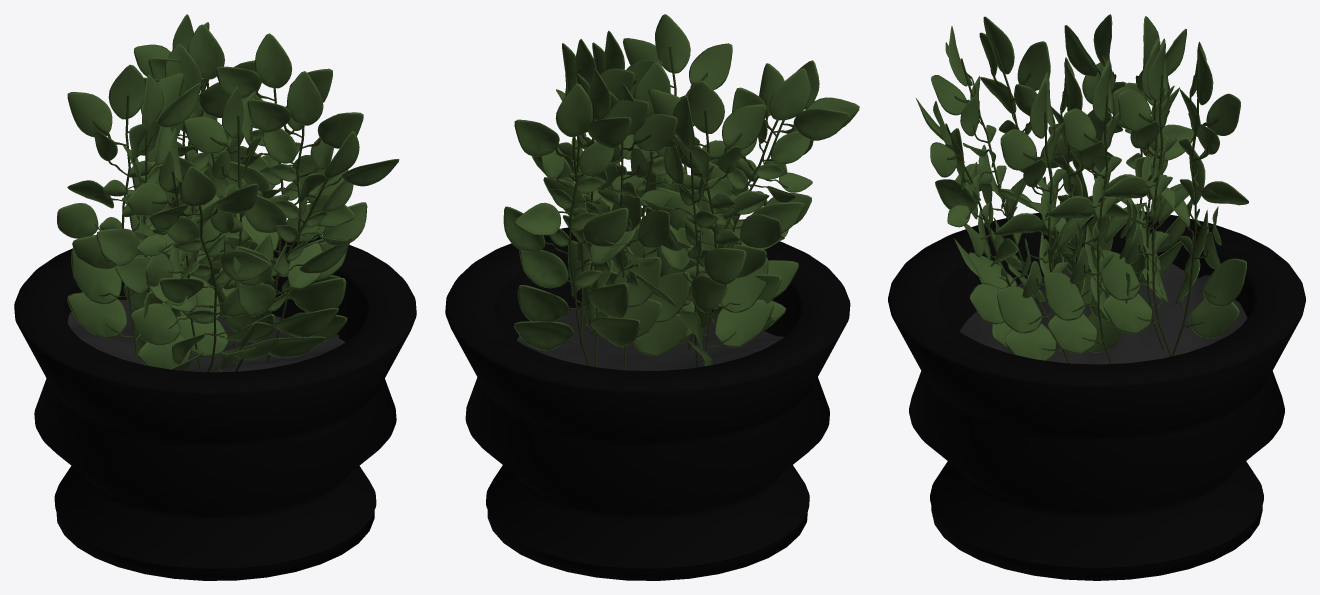
The model's file is Plant1.fbx.
The picture shows the model from 3 angles, left to right: view 1: azimuth 30°, elevation 25°; view 2: azimuth 150°, elevation 25°; view 3: azimuth 270°, elevation 25°; orthographic projection. The views are drawn at different scales.
Visible parts, largest first — view 1: Cylinder.040; view 2: Cylinder.040; view 3: Cylinder.040.
Boxes of the visible parts, <box> form: Cylinder.040: <box>14,14,416,580</box>; Cylinder.040: <box>445,14,859,580</box>; Cylinder.040: <box>888,14,1305,580</box>.
Bounding box in the file's own units: 50.85 × 64.22 × 50.85.
